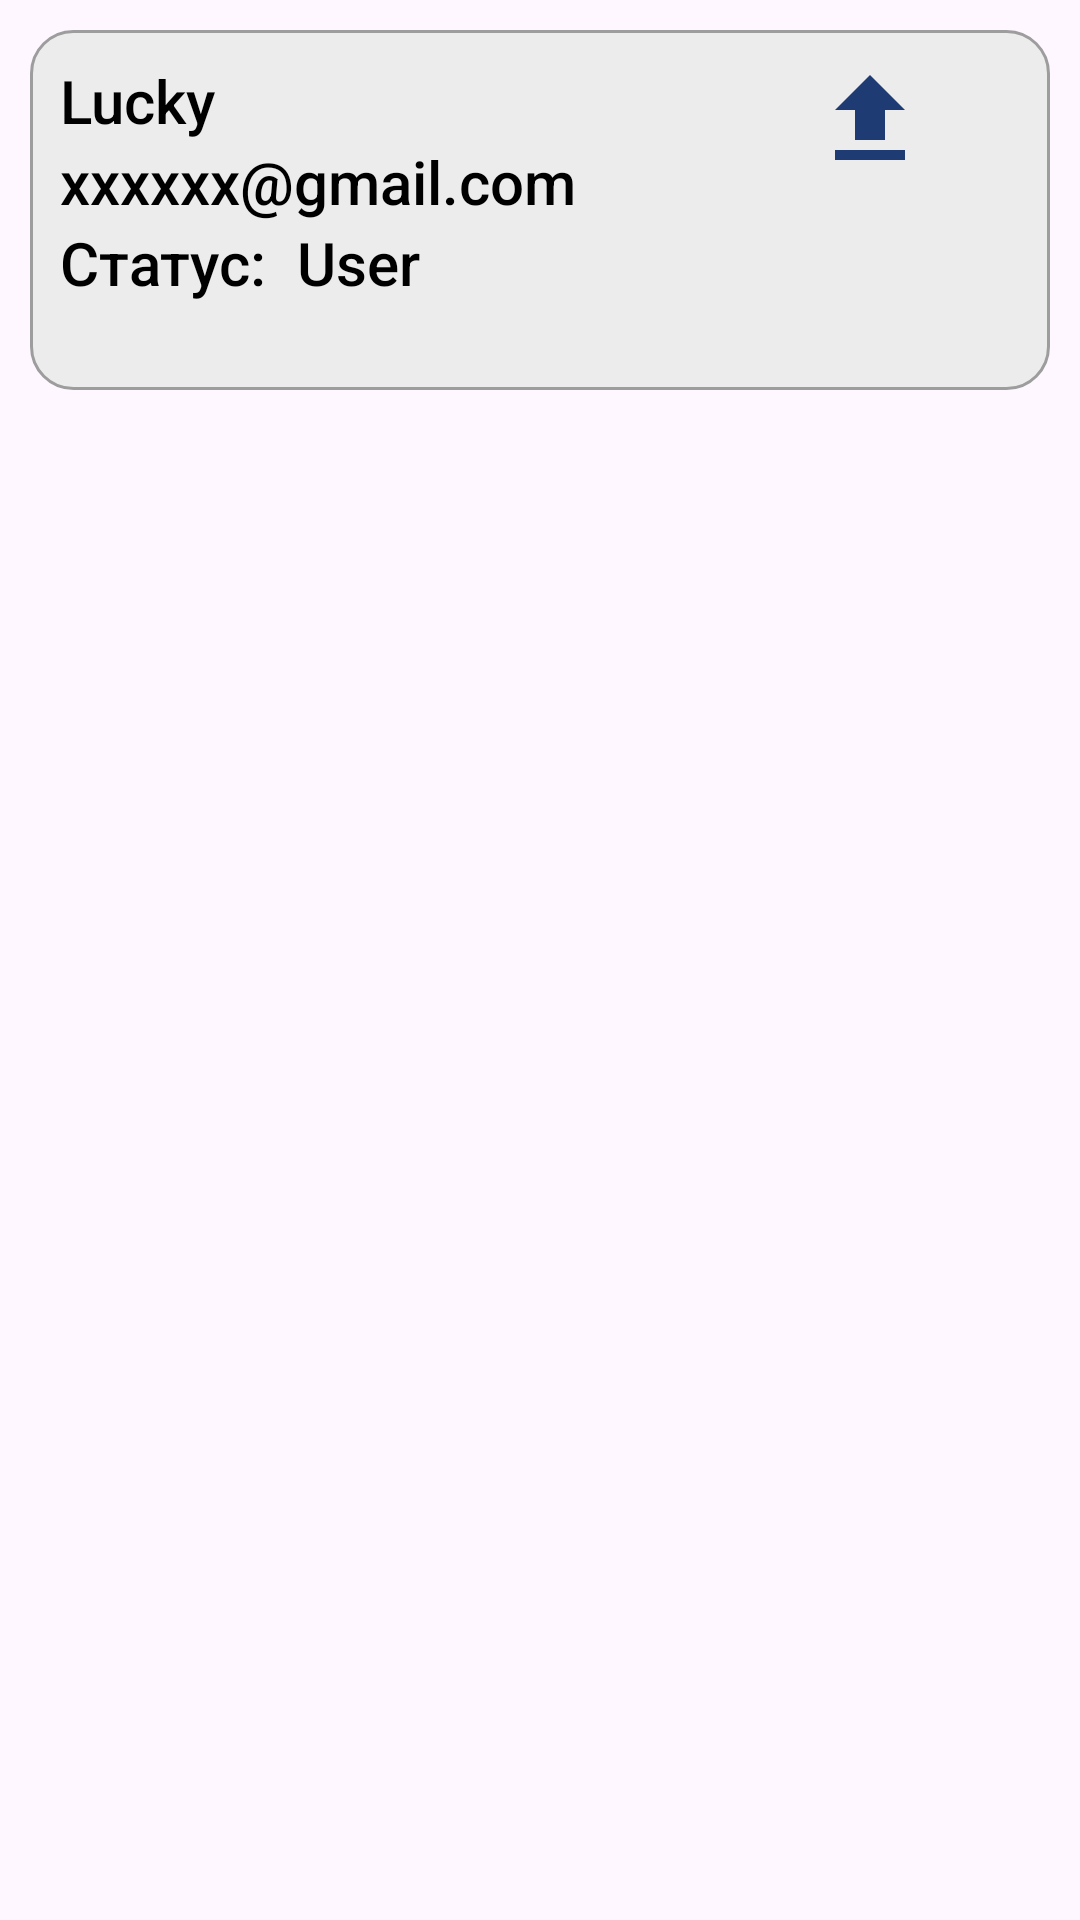

Where icons sit on this 1080 x 1920 app screen, as region(x1, y1, x2, y2):
upload: region(835, 75, 905, 160)
